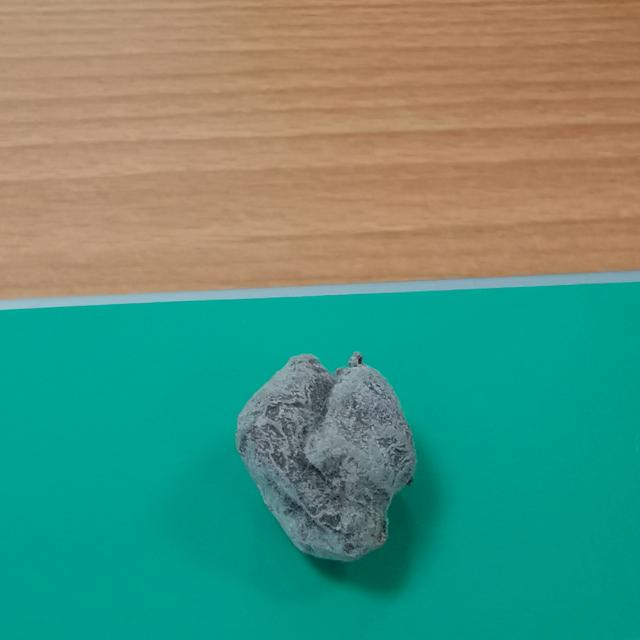Agglomerated_cocoabeans: (161, 324, 514, 625)
